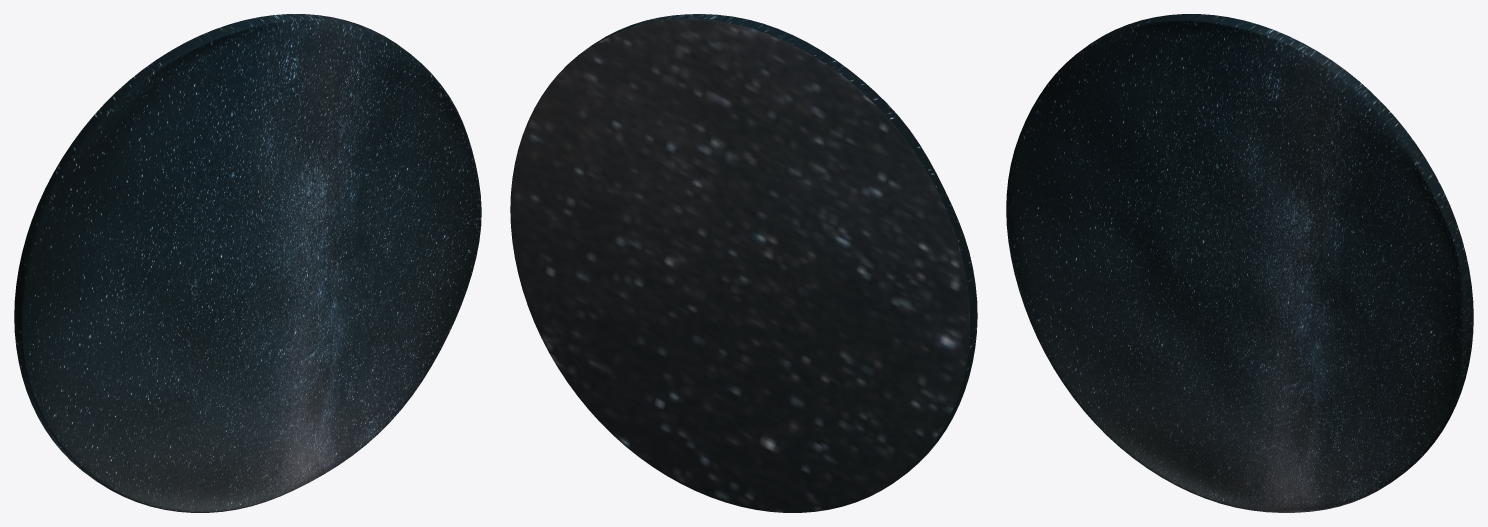
Rendered from 10438_Circular_Grass_Patch_v1_iterations-1.obj.
The picture shows the model from 3 angles, left to right: view 1: azimuth 30°, elevation 25°; view 2: azimuth 150°, elevation 25°; view 3: azimuth 330°, elevation 25°; orthographic projection.
Visible parts, largest first — view 1: 10438_Circular_Grass_Patch_v1; view 2: 10438_Circular_Grass_Patch_v1; view 3: 10438_Circular_Grass_Patch_v1.
Boxes of the visible parts, left/top/right/bottom form: 10438_Circular_Grass_Patch_v1: left=14, top=14, right=481, bottom=512; 10438_Circular_Grass_Patch_v1: left=510, top=14, right=977, bottom=512; 10438_Circular_Grass_Patch_v1: left=1006, top=14, right=1473, bottom=512.
Bounding box in the file's own units: 287 × 287 × 11.54.
1 material, 1 textured.
